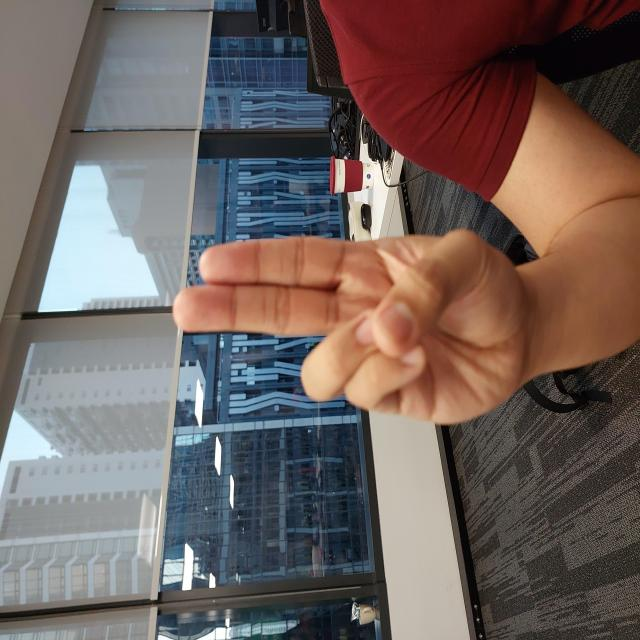U: (213, 170, 415, 528)
